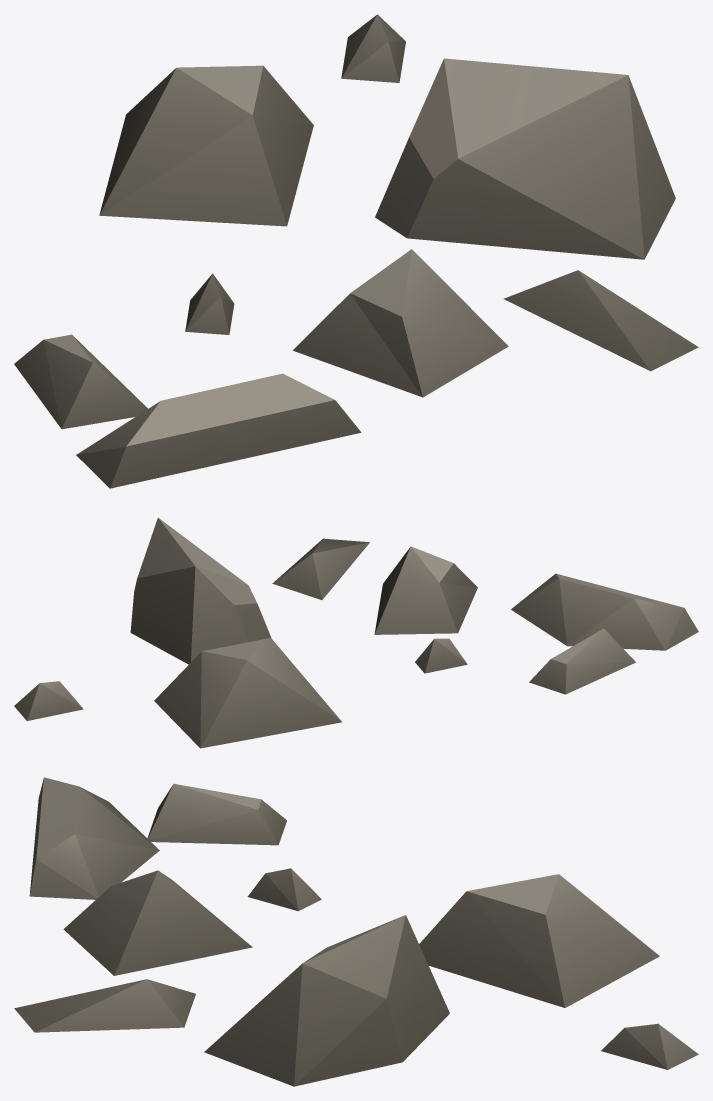
File: Debris_Corner_1A.fbx
3 renders of one model, top to bottom at view 1: azimuth 30°, elevation 25°; view 2: azimuth 150°, elevation 25°; view 3: azimuth 270°, elevation 25°, orthographic. The views are drawn at different scales.
Parts seen in each view (by area): view 1: Debris_Corner_1A; view 2: Debris_Corner_1A; view 3: Debris_Corner_1A.
Part boxes in pixels (left/top/right/bottom): Debris_Corner_1A: left=14, top=14, right=698, bottom=488; Debris_Corner_1A: left=14, top=517, right=698, bottom=748; Debris_Corner_1A: left=14, top=777, right=698, bottom=1086.
Size of the model in its own units: 1.85 by 0.3189 by 1.86.
